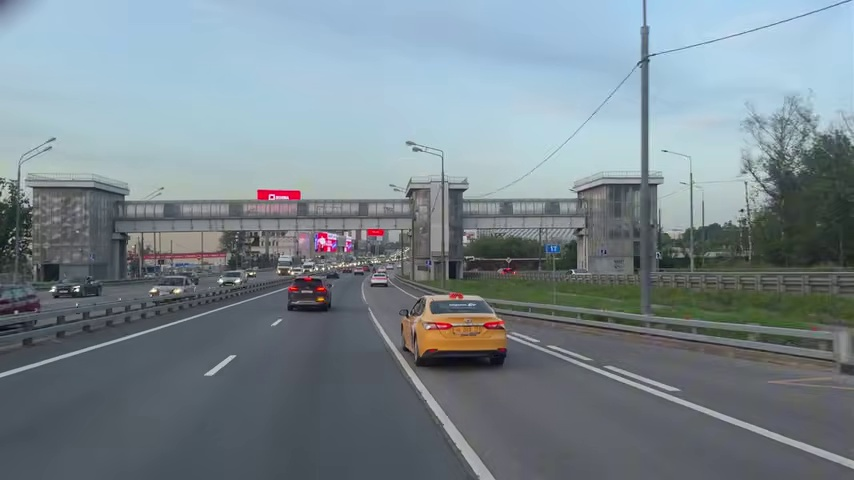apagada: (37, 137, 56, 157), (403, 138, 422, 156), (658, 146, 672, 158)
